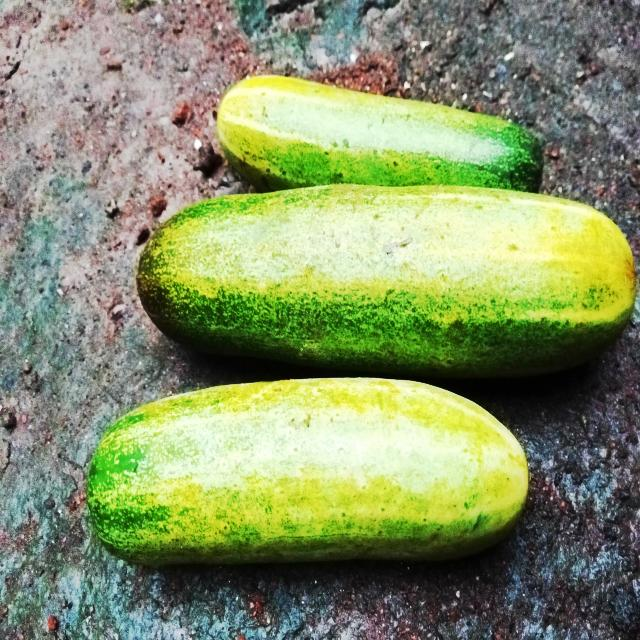Fresh-Cucumber: (133, 178, 640, 377), (85, 370, 532, 570), (214, 67, 548, 205)
